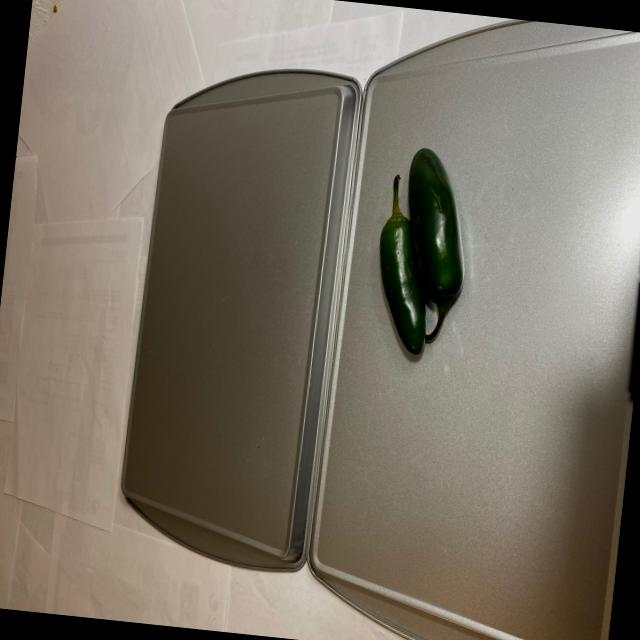chilli: (370, 131, 486, 371)
